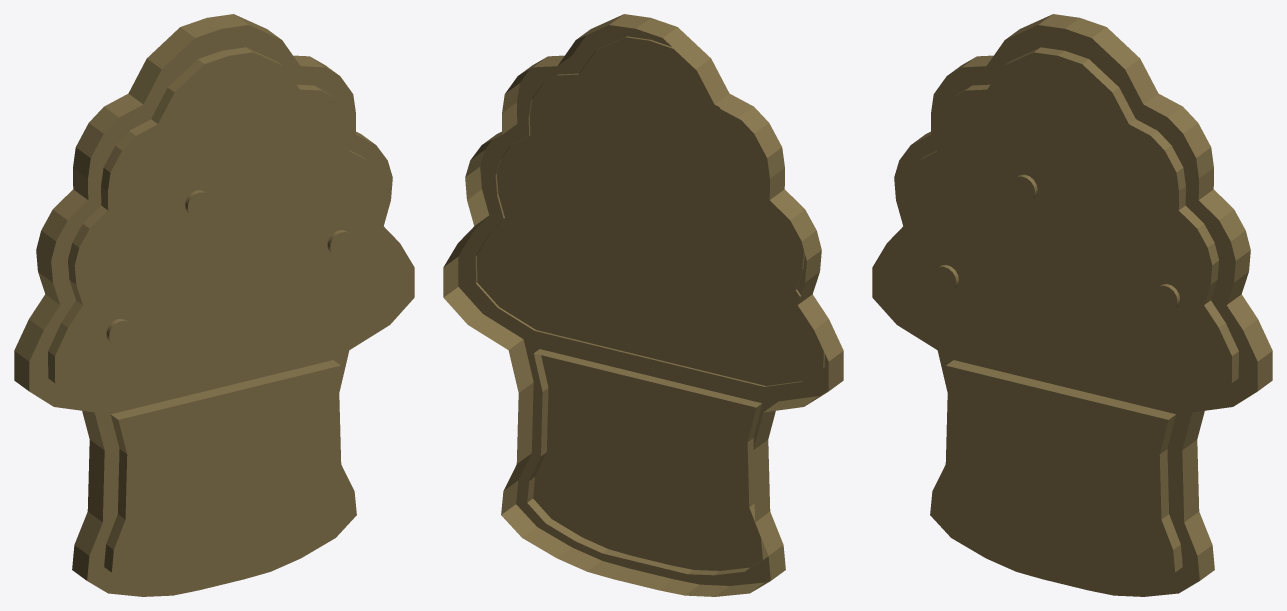
Rendered from tree_bicuit.fbx.
3 renders of one model, left to right at view 1: azimuth 30°, elevation 25°; view 2: azimuth 150°, elevation 25°; view 3: azimuth 330°, elevation 25°, orthographic.
Visible parts, largest first — view 1: pCylinder6; view 2: pCylinder6; view 3: pCylinder6.
Part boxes in pixels (x1,y1,x2,y2): pCylinder6: (14, 14, 414, 596); pCylinder6: (443, 14, 843, 596); pCylinder6: (872, 14, 1272, 596).
Bounding box in the file's own units: 1.7 × 2.34 × 0.1879.
